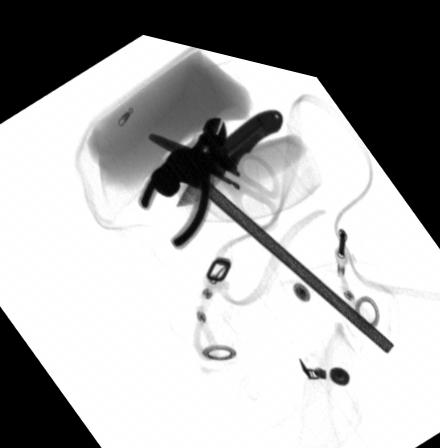Hammer: (148, 137, 394, 335)
Knife: (175, 96, 285, 198)
Pliers: (136, 105, 226, 240)
Scissors: (145, 125, 281, 221)
